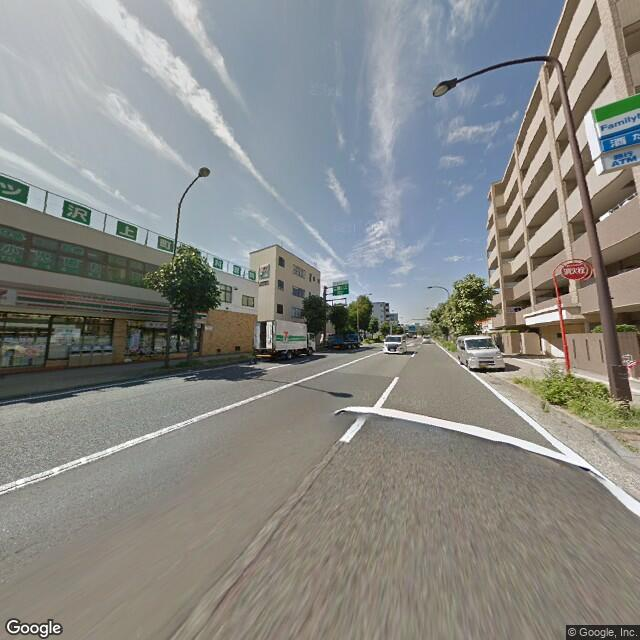7_eleven: (1, 286, 170, 321), (278, 326, 293, 345)
family_mart: (592, 92, 639, 153)
